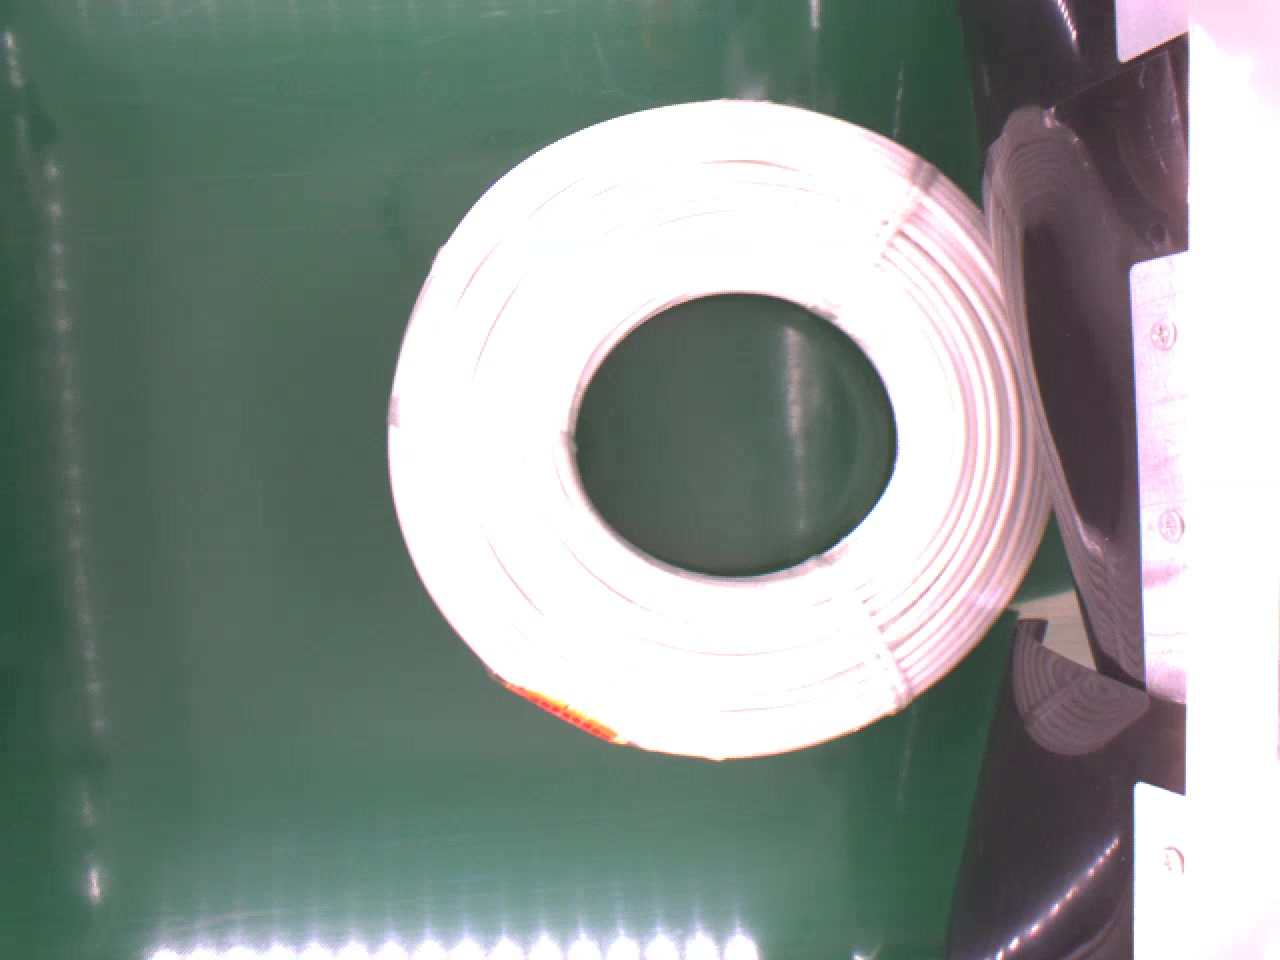white: (380, 98, 1049, 770)
